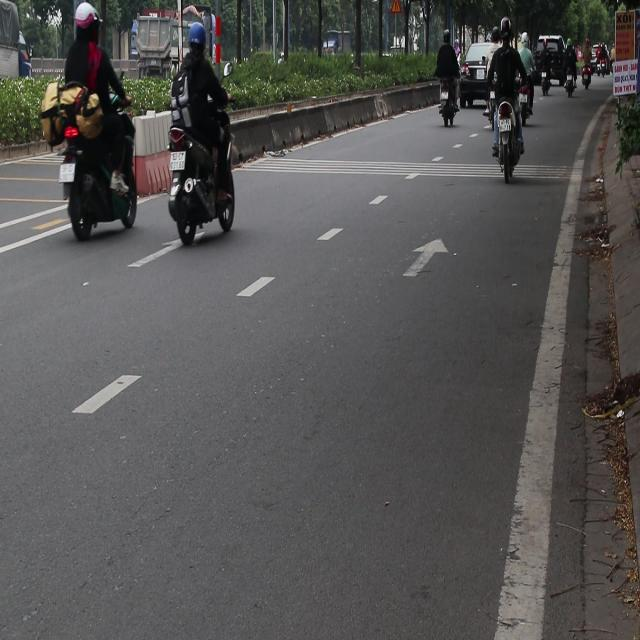car: (458, 43, 498, 109), (536, 34, 566, 86)
motorbike: (63, 127, 141, 241), (167, 124, 237, 249), (483, 89, 523, 188), (430, 72, 462, 133), (561, 58, 574, 96), (584, 60, 597, 98), (538, 58, 550, 96)
truck: (132, 15, 222, 94)
